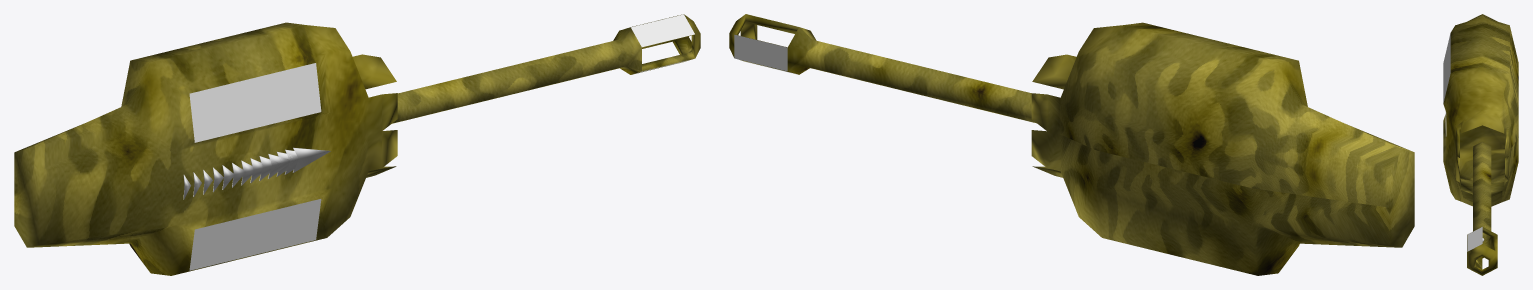
Rendered from Laser_dead.fbx.
The picture shows the model from 3 angles, left to right: view 1: azimuth 30°, elevation 25°; view 2: azimuth 150°, elevation 25°; view 3: azimuth 270°, elevation 25°; orthographic projection. The views are drawn at different scales.
Parts seen in each view (by area): view 1: Body0, Color1, Body1, Color0; view 2: Body0, Body1, Color1; view 3: Body0, Body1, Color1.
Boxes of the visible parts, left/top/right/bottom form: Body0: left=14, top=22, right=397, bottom=275; Color1: left=189, top=14, right=694, bottom=270; Body1: left=392, top=14, right=700, bottom=123; Color0: left=183, top=147, right=330, bottom=199; Body0: left=1031, top=22, right=1414, bottom=275; Body1: left=729, top=14, right=1036, bottom=123; Color1: left=734, top=34, right=798, bottom=74; Body0: left=1443, top=14, right=1518, bottom=206; Body1: left=1467, top=141, right=1497, bottom=275; Color1: left=1443, top=33, right=1482, bottom=269.
Bounding box in the file's own units: 88.63 × 26.71 × 13.01.
1 material, 1 textured.
